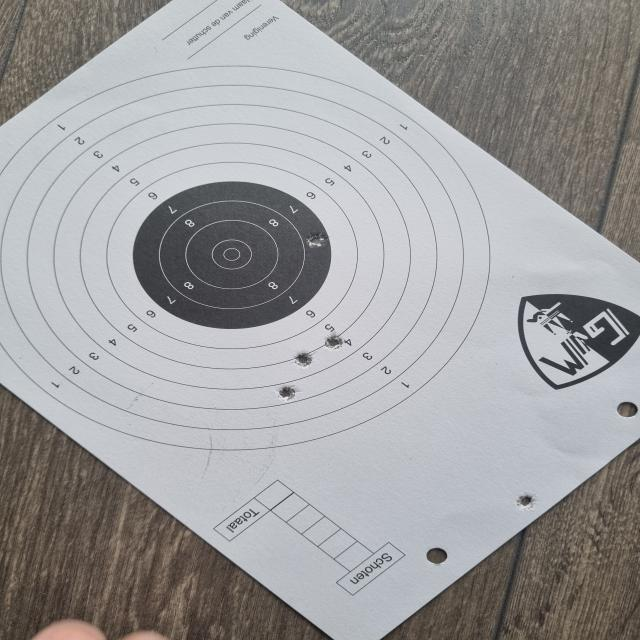4: (276, 386, 296, 402)
6: (324, 334, 344, 350), (292, 353, 314, 367)
8: (306, 232, 330, 248)
Black Contour: (130, 180, 333, 332)
Target: (0, 65, 492, 451)
hole: (514, 495, 534, 510)
